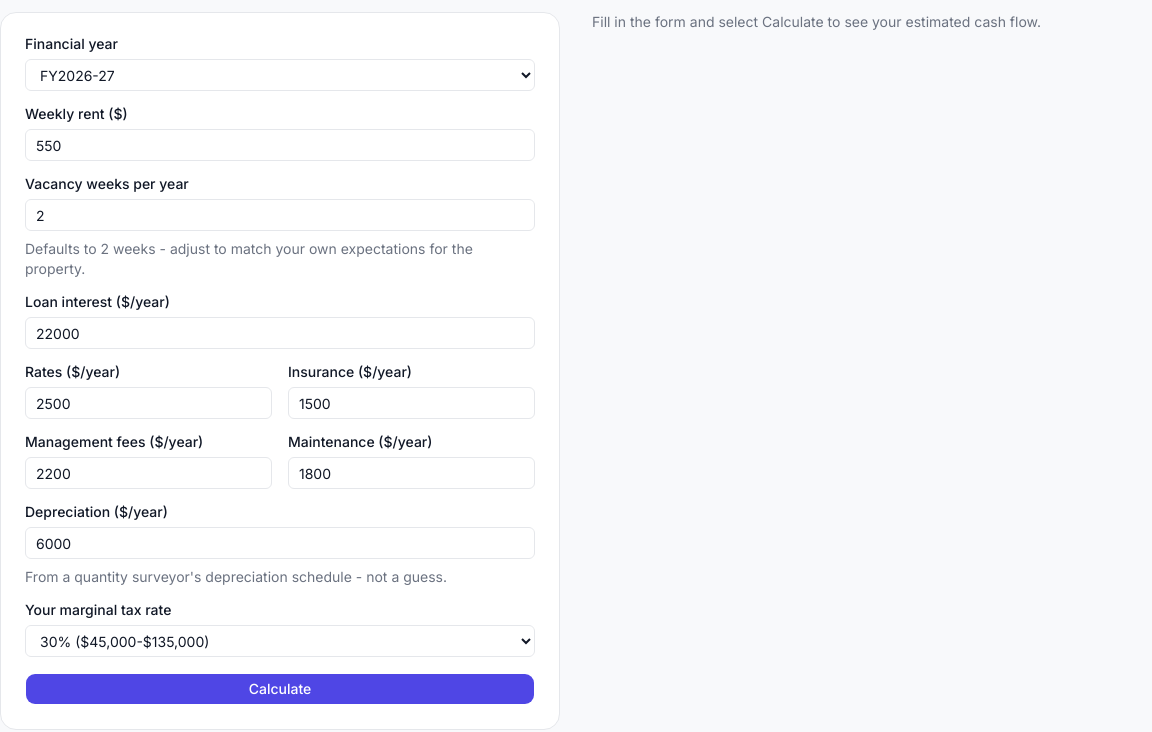
Test: PropertyCashFlowCalculator › rejects negative weekly rent
Replace the text in the number field labelled "Weekly rent ($)" with "-5" at (280, 145), box [25,129,535,161]
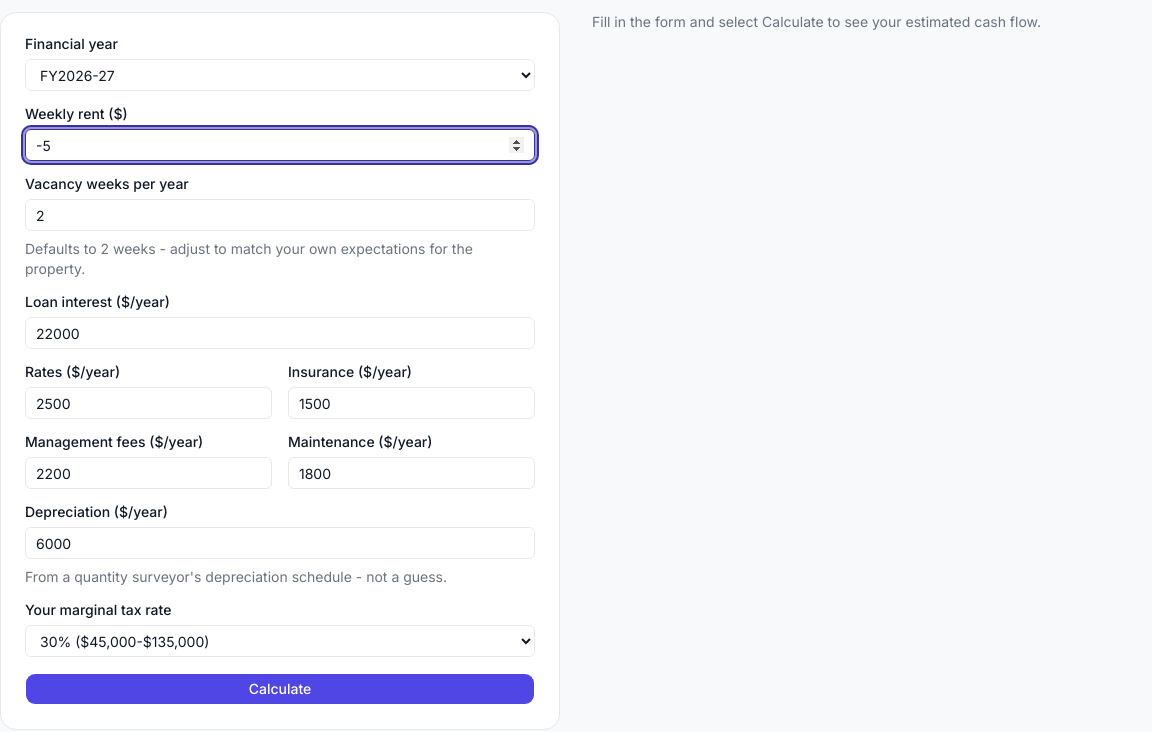
Click the button "Calculate" at (280, 689), box [25,673,535,705]
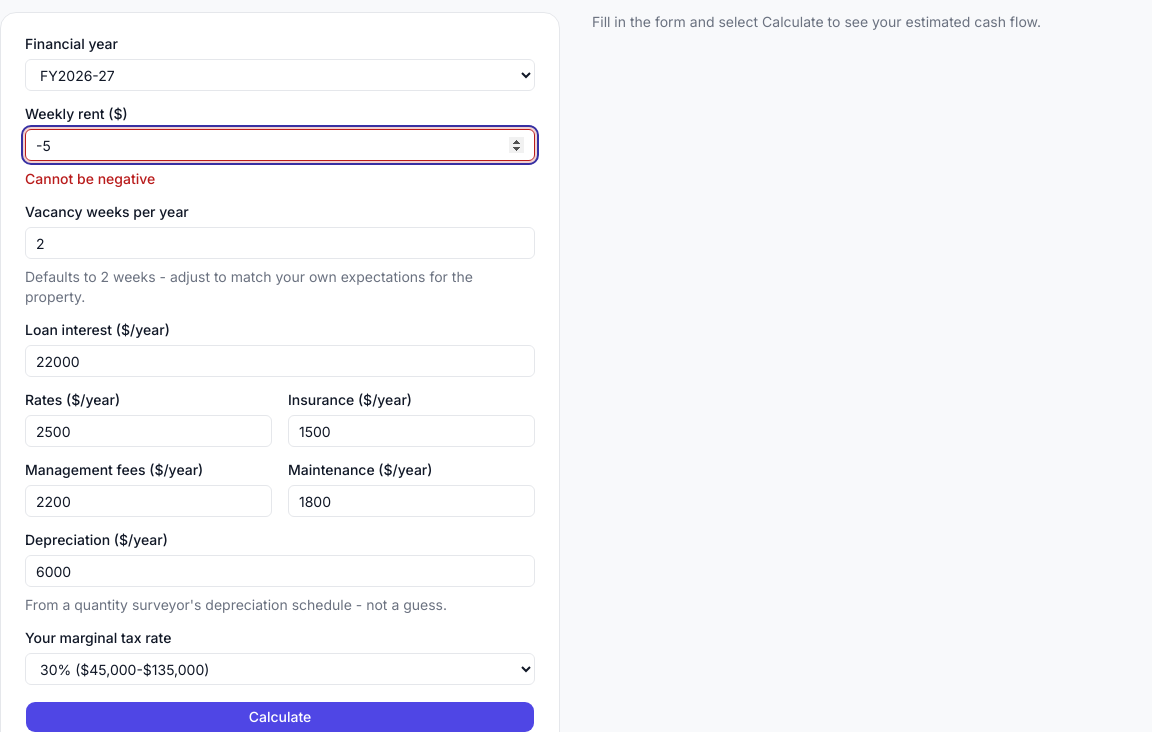
Expected: the message reads "Cannot be negative", [25,170,155,187]
